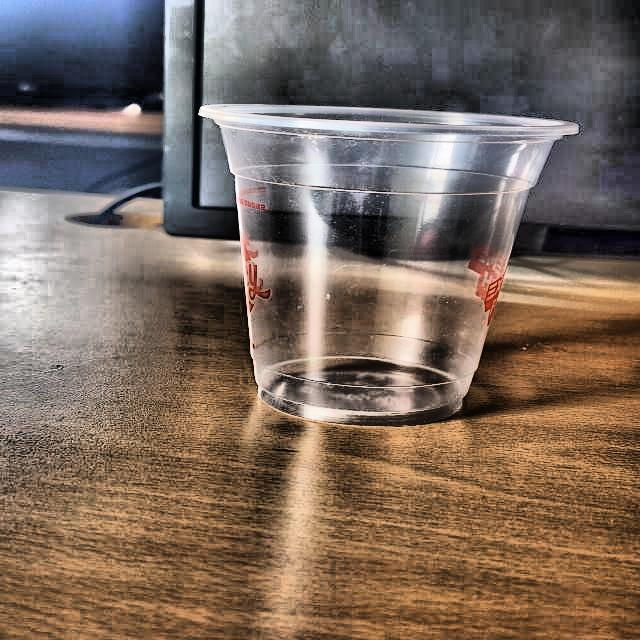plastic cup: (195, 92, 586, 426)
